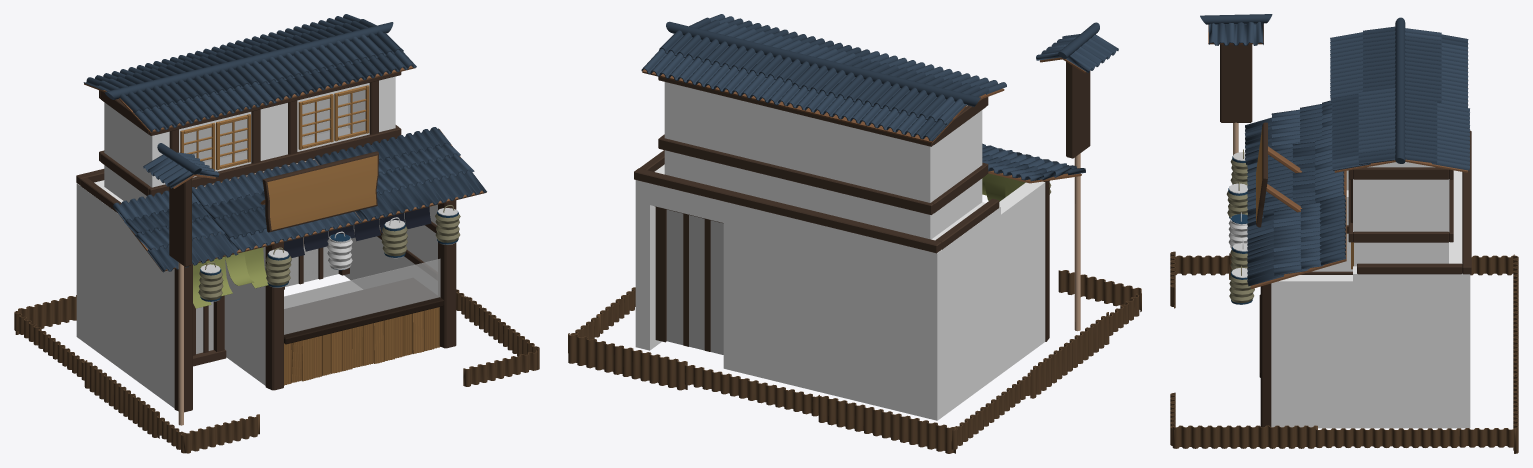
Rendered from JapaneseRestaurant.fbx.
3 views of the same model, side by side, from view 1: azimuth 30°, elevation 25°; view 2: azimuth 150°, elevation 25°; view 3: azimuth 270°, elevation 25° (orthographic). The views are drawn at different scales.
Parts seen in each view (by area): view 1: pCube52, polySurface64, polySurface250, pCube4, polySurface53, pCube140, pCube48, pCube112, pCube45, pCube83, pCube42, polySurface647 (+33 smaller); view 2: pCube52, pCube4, polySurface250, polySurface522, pCube83, pCube62, polySurface653, polySurface655, pCube53, polySurface654, polySurface652, pCylinder1 (+14 smaller); view 3: pCube52, polySurface64, polySurface250, pCube4, pCube83, pCube51, pCube62, polySurface647, polySurface653, polySurface655, polySurface654, pCube53 (+18 smaller).
Boxes of the visible parts, box(x1,y1,x2,y2) form: pCube52: box(76, 191, 437, 408); polySurface64: box(113, 127, 486, 272); polySurface250: box(14, 289, 539, 453); pCube4: box(104, 76, 395, 202); polySurface53: box(284, 307, 440, 385); pCube140: box(262, 151, 378, 232); pCube48: box(284, 258, 440, 334); pCube112: box(174, 200, 456, 412); pCube45: box(284, 278, 444, 344); pCube83: box(99, 72, 401, 196); pCube42: box(224, 247, 265, 385); polySurface647: box(244, 34, 386, 84); pCube52: box(635, 181, 1045, 420); pCube4: box(664, 82, 982, 239); polySurface250: box(568, 270, 1141, 453); polySurface522: box(666, 209, 723, 354); pCube83: box(658, 76, 988, 214); pCube62: box(634, 150, 999, 253); polySurface653: box(792, 63, 946, 120); polySurface655: box(641, 48, 792, 105); pCube53: box(635, 164, 1000, 260); polySurface654: box(659, 30, 810, 83); polySurface652: box(778, 84, 926, 136); pCylinder1: box(666, 21, 980, 106); pCube52: box(1271, 170, 1470, 428); polySurface64: box(1245, 100, 1345, 286); polySurface250: box(1170, 251, 1518, 453); pCube4: box(1353, 162, 1448, 266); pCube83: box(1348, 167, 1453, 242); pCube51: box(1220, 44, 1252, 122); pCube62: box(1357, 130, 1471, 274); polySurface647: box(1358, 87, 1395, 153); polySurface653: box(1405, 36, 1441, 102); polySurface655: box(1432, 102, 1469, 170); polySurface654: box(1405, 97, 1437, 163); pCube53: box(1353, 170, 1470, 281).
Size of the model in its own units: 891 by 661 by 748.
